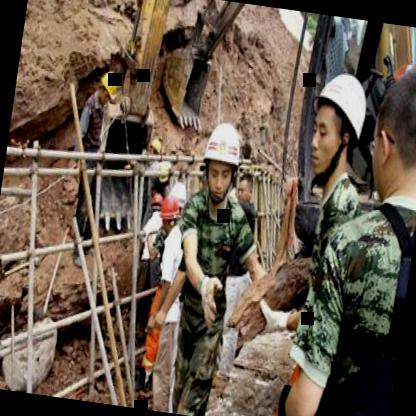head: (363, 61, 416, 212), (230, 167, 258, 212)
helmet: (298, 61, 376, 184), (198, 115, 252, 204), (160, 186, 186, 231), (96, 69, 122, 109), (148, 188, 166, 223)
